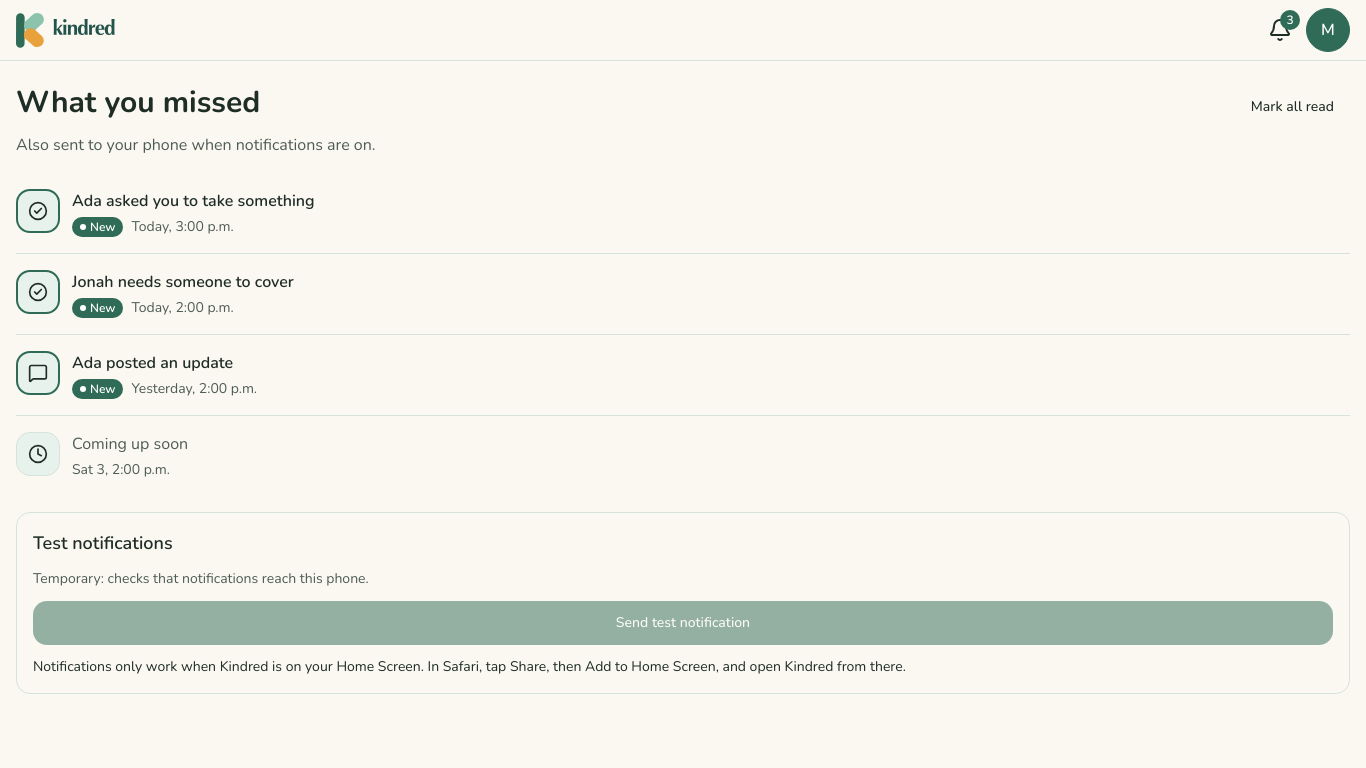
says so when marking read fails
This screenshot has width=1366, height=768.
Click the button "Mark all read": (1292, 107) [1235,85,1350,129]
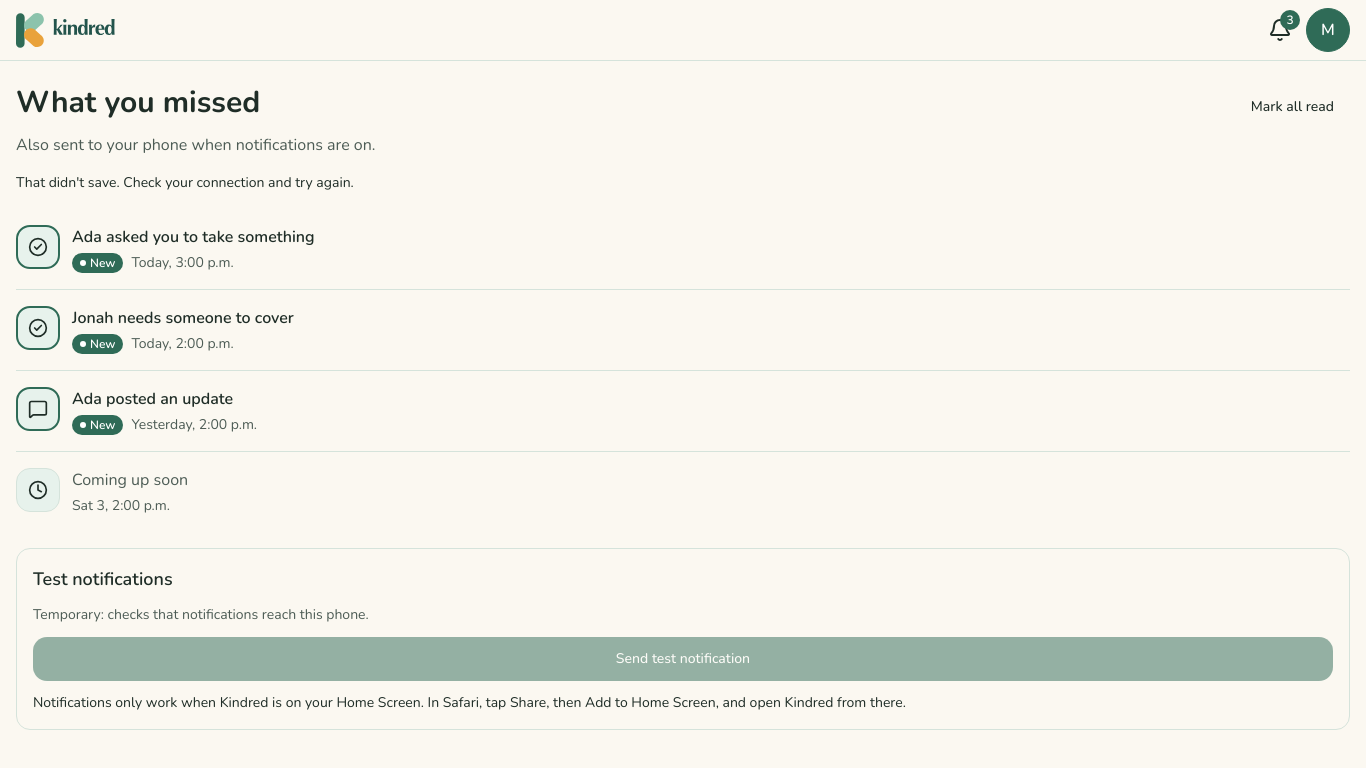
Expected: the text "New" is shown 3 times, [72,253,124,273]; [72,334,124,354]; [72,415,124,435]
Expected: the message "That didn't save. Check your connection and try again." is shown, [16,173,354,192]
